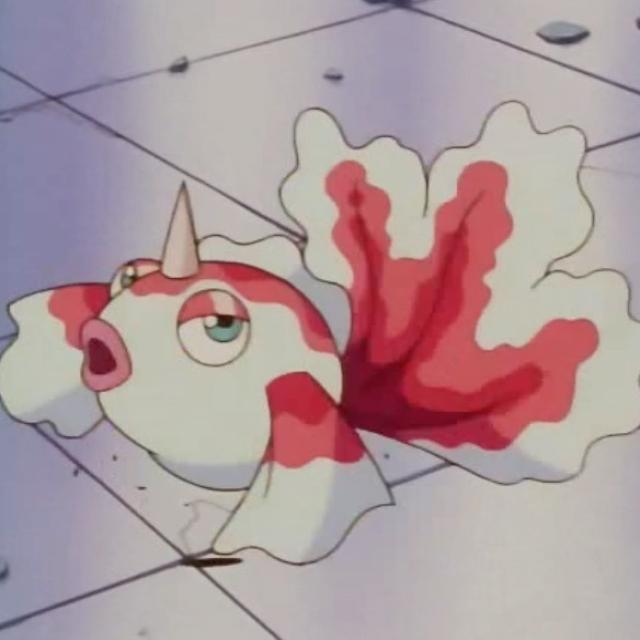Goldeen: (0, 176, 449, 566)
